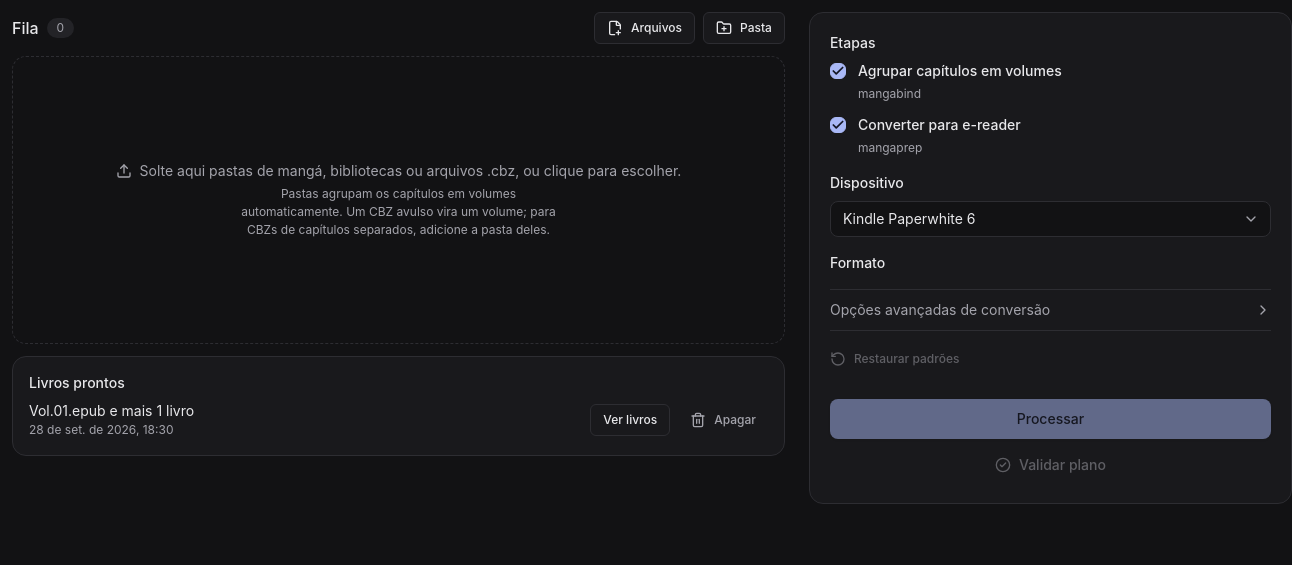
Scenario: the queue screen in Portuguese › the books that are ready › asks before deleting them, in Portuguese
This screenshot has width=1292, height=565.
Click the button with aria-label "Apagar os livros pendentes de Vol.01.epub" at (723, 420), box [678, 404, 768, 436]
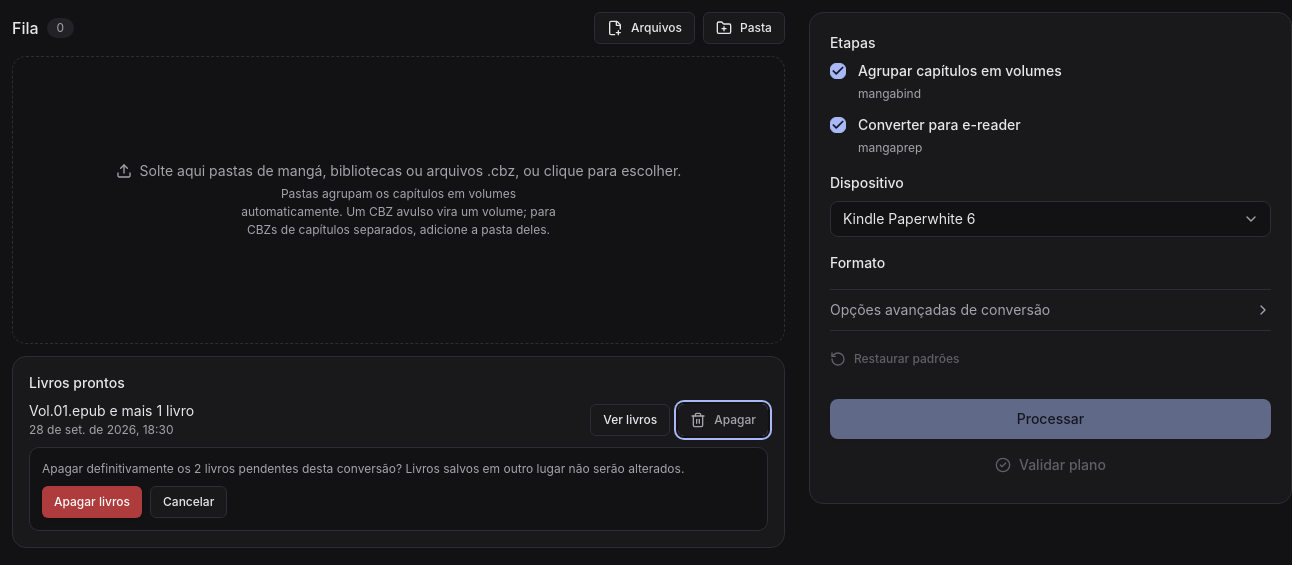
Now the element named "Confirmar a exclusão de Vol.01.epub" shows "Apagar definitivamente os 2 livros pendentes desta conversão? Livros salvos em outro lugar não serão alterados.", box [42, 461, 684, 476]
Now the button "Apagar livros" is shown, box [42, 486, 142, 518]
Now the button "Cancelar" is shown, box [150, 486, 227, 518]
